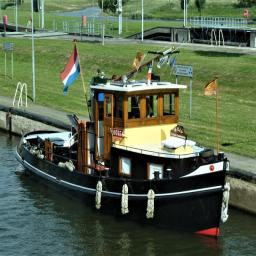tugboat: (13, 38, 232, 245)
